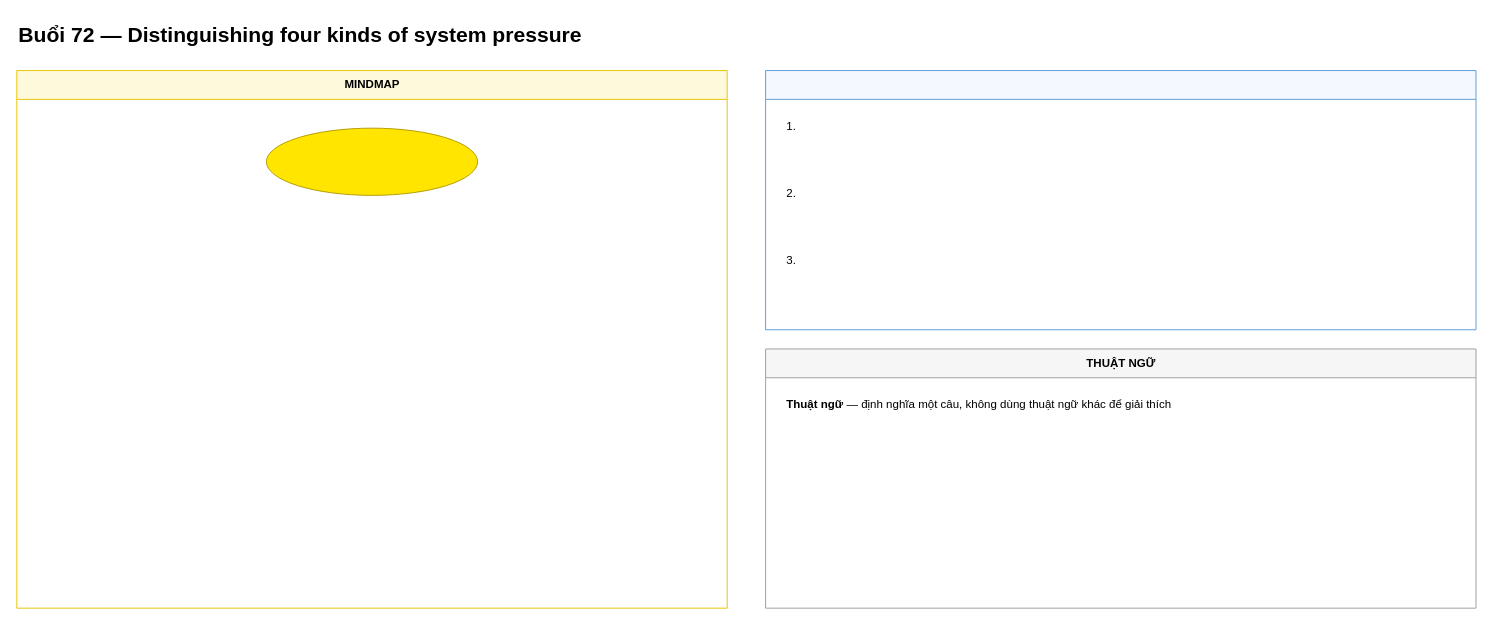
Image size: 1493x625. Some labels were removed from this diagram. The box of each missing label's shape, as (x1, y1, x2, y2) in pixels:
Distinguishing four kinds of system pressure: (265, 127, 478, 195)
KEY TAKEAWAY — ba điều phải nhớ: (765, 70, 1476, 330)
